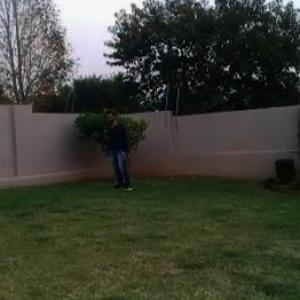follow: (104, 102, 133, 198)
